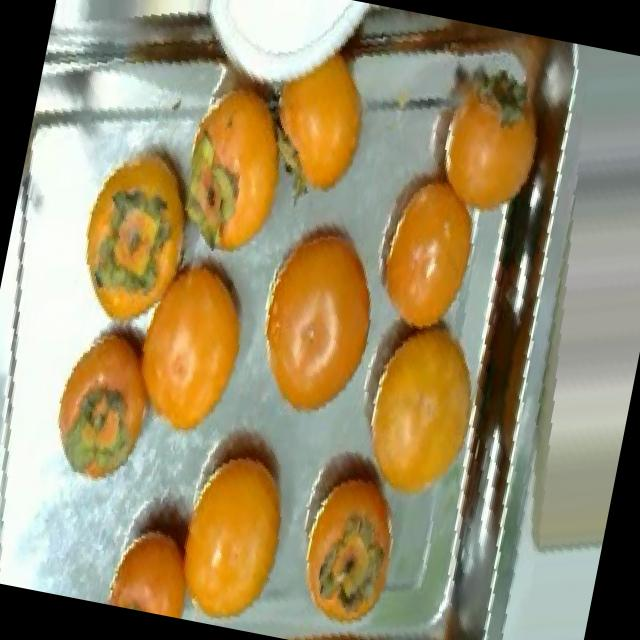Fruit: (106, 226, 270, 464), (234, 202, 391, 440), (339, 288, 493, 528), (151, 54, 310, 278), (155, 417, 315, 638), (244, 14, 399, 220), (282, 438, 425, 640), (411, 38, 554, 240), (38, 352, 165, 498), (90, 499, 214, 622)
